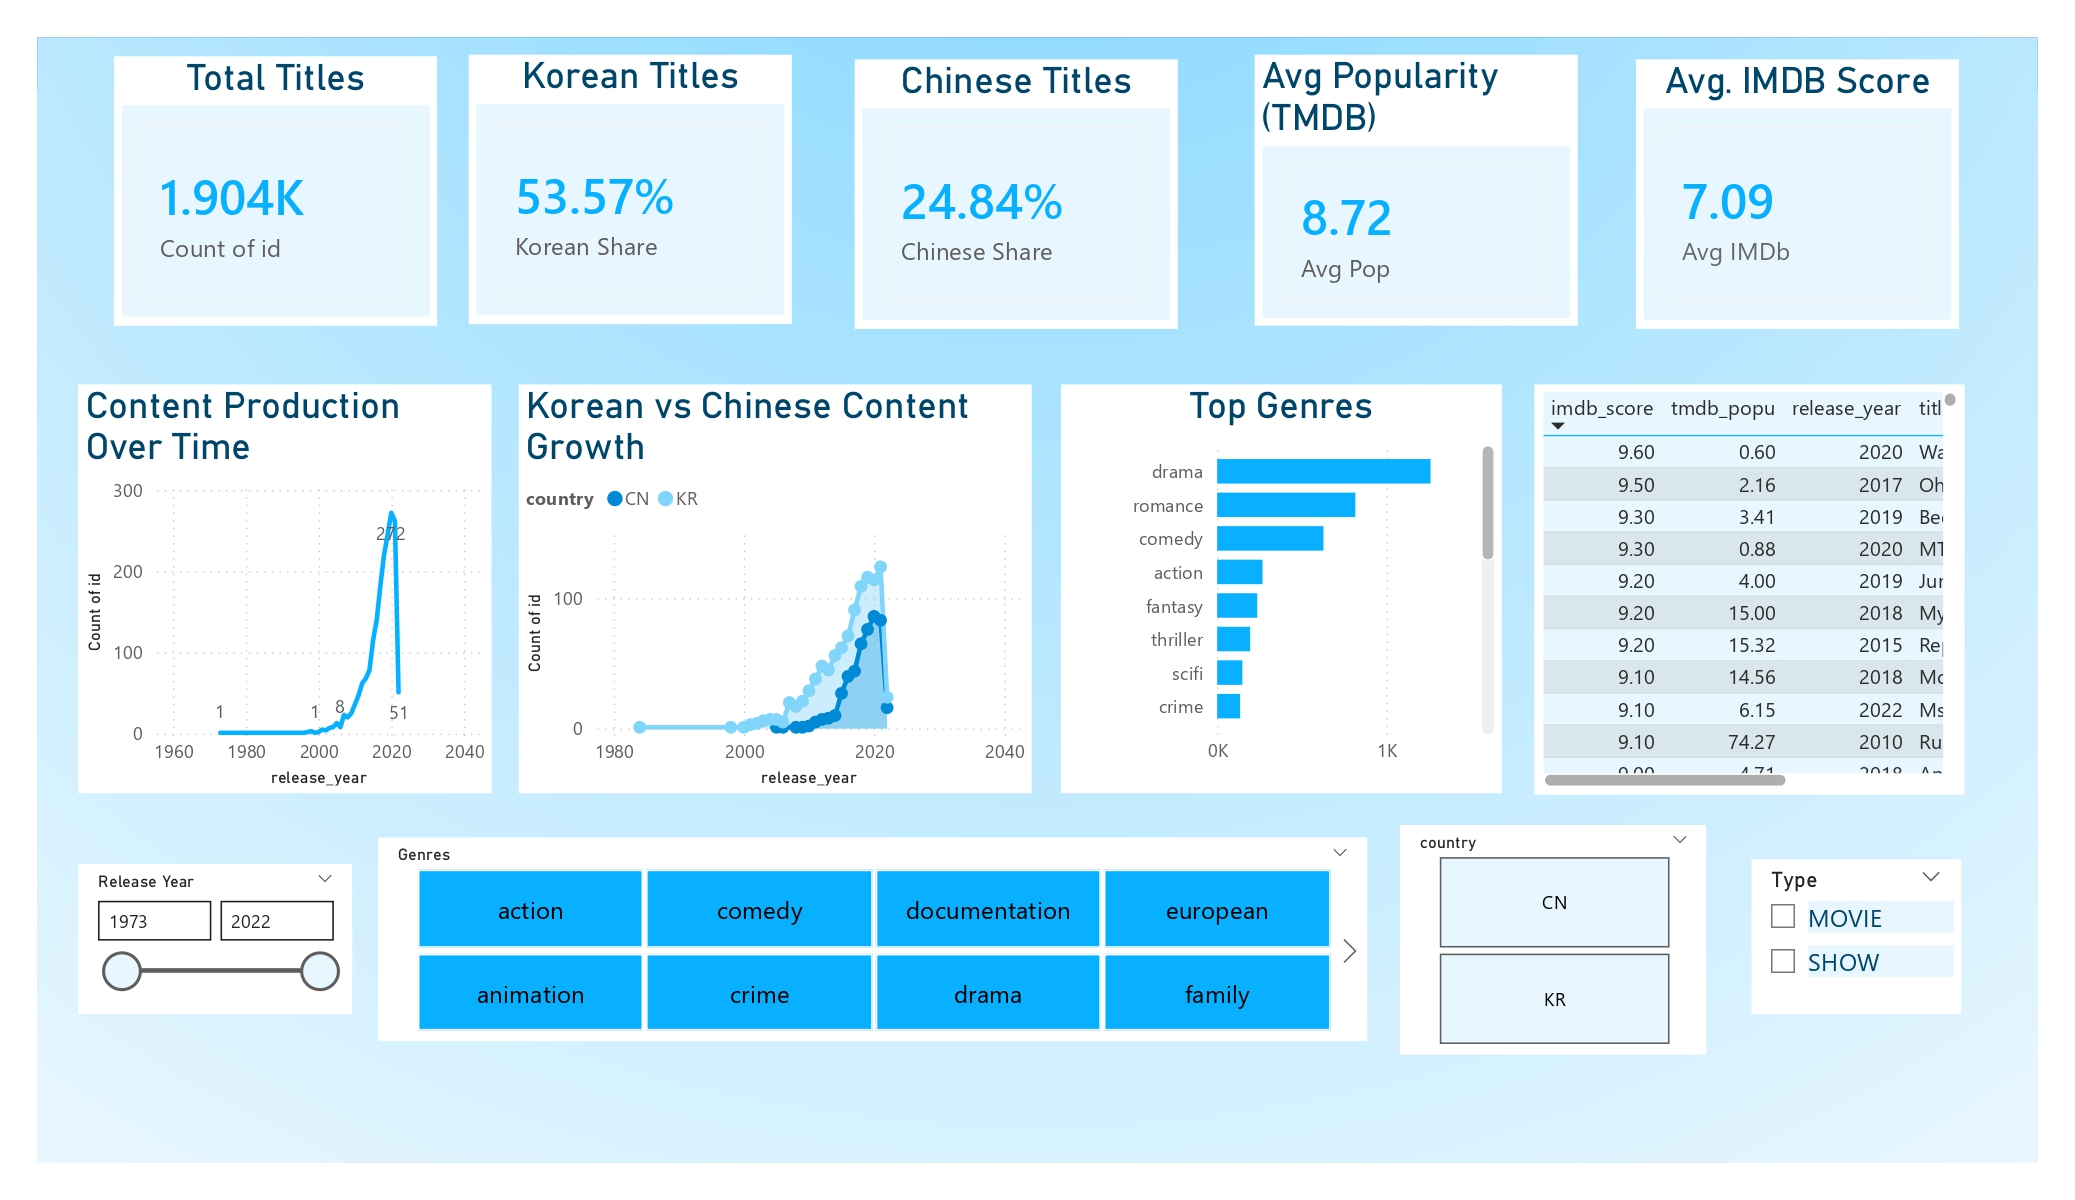

The dashboard page shown, as its layout file describes it:
{"tool":"powerbi","page":{"name":"Page 1","canvas":[1280,720],"ordinal":0},"visuals":[{"type":"cardVisual","title":"Total Titles","fields":{"Data":["viki titles.id"]},"box":[50,12,211,176],"z":0},{"type":"cardVisual","title":"Korean Titles","fields":{"Data":["viki titles.Korean Share"]},"box":[281.4,11.4,211.5,175.7],"z":1000},{"type":"cardVisual","title":"Chinese Titles","fields":{"Data":["viki titles.Chinese Share"]},"box":[533.5,14.6,211.5,175.7],"z":2000},{"type":"cardVisual","title":"Avg. IMDB Score","fields":{"Data":["viki titles.Avg IMDb"]},"box":[1044.2,14.6,211.5,175.7],"z":3000},{"type":"cardVisual","title":"Avg Popularity (TMDB)","fields":{"Data":["viki titles.Avg Pop"]},"box":[795.4,11.4,211.5,177.3],"z":4000},{"type":"lineChart","title":"Content Production Over Time","fields":{"Category":["viki titles.release_year"],"Y":["viki titles.id"]},"box":[26,226.1,270,266.8],"z":5000},{"type":"lineChart","title":"Korean vs Chinese Content Growth","fields":{"Category":["Titles_By_Country.release_year"],"Y":["Titles_By_Country.id"],"Series":["Titles_By_Country.country"]},"box":[313.9,226.1,335.1,266.8],"z":6000},{"type":"clusteredBarChart","title":"Top Genres","fields":{"Category":["Titles_By_Genre.genres"],"Y":["Titles_By_Genre.id"]},"box":[668.5,226.1,287.9,266.8],"z":7000},{"type":"tableEx","fields":{"Values":["viki titles.imdb_score","viki titles.tmdb_popu","viki titles.release_year","viki titles.title"]},"box":[977.6,226.1,281.4,268.4],"z":8000},{"type":"slicer","fields":{"Values":["viki titles.release_year"]},"box":[26,540,178.9,97.6],"z":10000},{"type":"slicer","fields":{"Values":["Titles_By_Genre.genres"]},"box":[222.8,522.1,645.7,133.4],"z":11000},{"type":"slicer","fields":{"Values":["Titles_By_Country.country"]},"box":[889.7,514,200.1,149.6],"z":12000},{"type":"slicer","title":"Type","fields":{"Values":["Titles_By_Genre.type"]},"box":[1119.1,536.8,136.6,100.8],"z":13000}]}

Visuals, with their boxes on the page's 1280x720 design canvas (x1, y1, x2, y2). These are canvas units, not pixel positions in the 2075x1200 screenshot, which may show the page scaled, cropped or inside an application window:
"Total Titles" cardVisual: 50 12 261 188
"Korean Titles" cardVisual: 281 11 493 187
"Chinese Titles" cardVisual: 534 15 745 190
"Avg. IMDB Score" cardVisual: 1044 15 1256 190
"Avg Popularity (TMDB)" cardVisual: 795 11 1007 189
"Content Production Over Time" lineChart: 26 226 296 493
"Korean vs Chinese Content Growth" lineChart: 314 226 649 493
"Top Genres" clusteredBarChart: 668 226 956 493
tableEx - viki titles.imdb_score x viki titles.tmdb_popu: 978 226 1259 494
slicer - viki titles.release_year: 26 540 205 638
slicer - Titles_By_Genre.genres: 223 522 868 656
slicer - Titles_By_Country.country: 890 514 1090 664
"Type" slicer: 1119 537 1256 638
